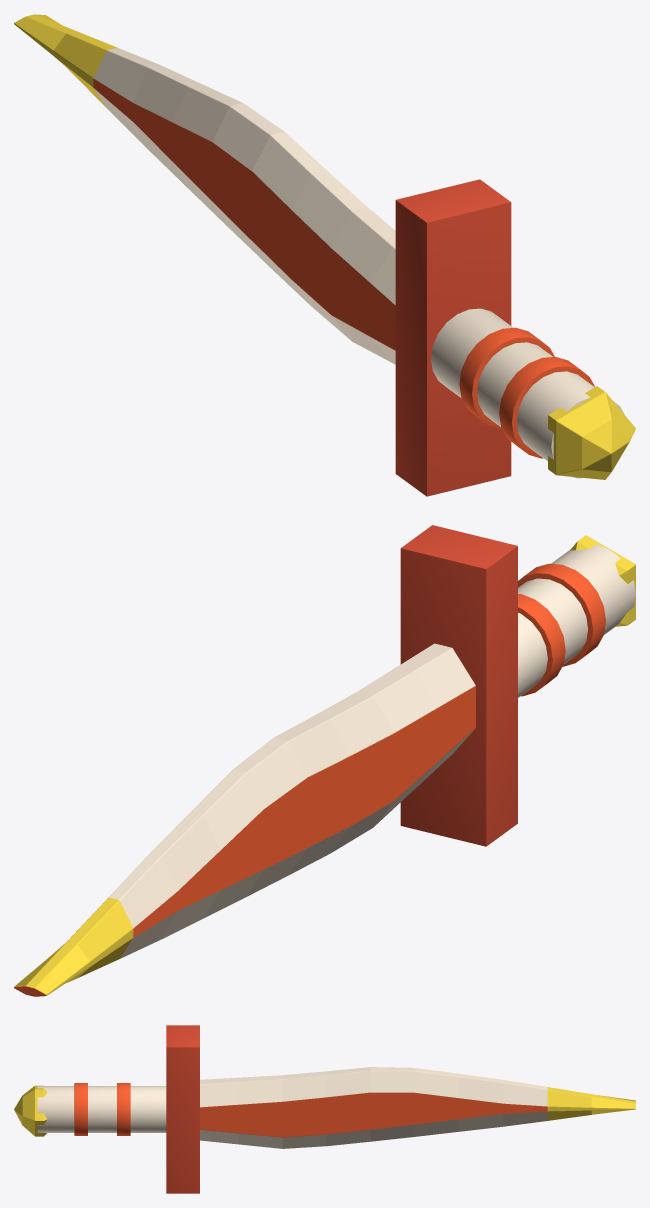
File: Sword_EmberchipShiv.glb
3 views of the same model, one above another, from view 1: azimuth 30°, elevation 25°; view 2: azimuth 150°, elevation 25°; view 3: azimuth 270°, elevation 25° (orthographic). The views are drawn at different scales.
Visible parts, largest first — view 1: Sword_EmberchipShiv; view 2: Sword_EmberchipShiv; view 3: Sword_EmberchipShiv.
Part boxes in pixels (x1,y1,x2,y2): Sword_EmberchipShiv: [14, 14, 635, 496]; Sword_EmberchipShiv: [14, 525, 635, 996]; Sword_EmberchipShiv: [14, 1025, 635, 1193].
Bounding box in the file's own units: 0.0869 × 0.26 × 1.
1 material, 1 textured.
